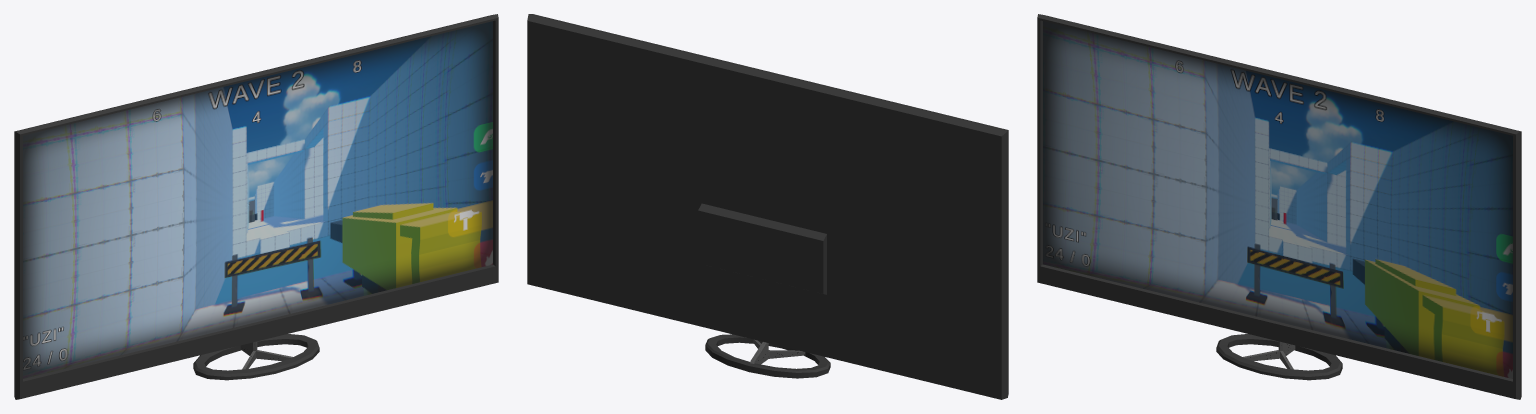
The picture shows the model from 3 angles, left to right: view 1: azimuth 30°, elevation 25°; view 2: azimuth 150°, elevation 25°; view 3: azimuth 330°, elevation 25°; orthographic projection.
Parts seen in each view (by area): view 1: TV 2; view 2: TV 2; view 3: TV 2.
Boxes of the visible parts, left/top/right/bottom form: TV 2: left=14, top=14, right=498, bottom=399; TV 2: left=527, top=14, right=1008, bottom=399; TV 2: left=1037, top=14, right=1521, bottom=399.
Size of the model in its own units: 1.32 by 0.7508 by 0.1783.
2 materials, 2 textured.
